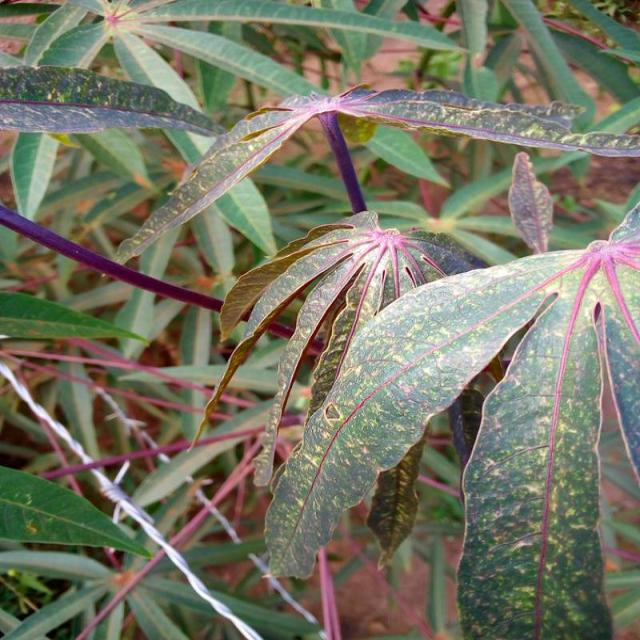cassava leaf: (262, 201, 638, 638)
